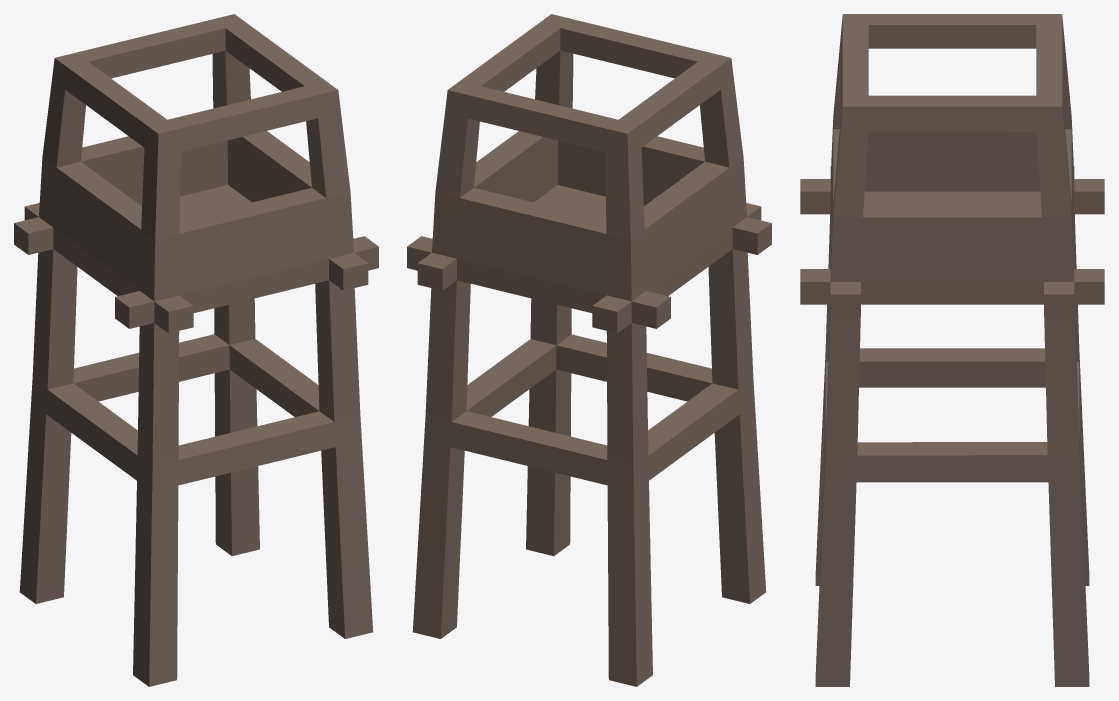
File: md_watchtower.glb
3 renders of one model, left to right at view 1: azimuth 30°, elevation 25°; view 2: azimuth 150°, elevation 25°; view 3: azimuth 270°, elevation 25°, orthographic. The views are drawn at different scales.
Visible parts, largest first — view 1: md_watchtower2; view 2: md_watchtower2; view 3: md_watchtower2.
Part boxes in pixels (x1,y1,x2,y2): md_watchtower2: (14, 14, 378, 686); md_watchtower2: (407, 14, 771, 686); md_watchtower2: (800, 14, 1104, 686).
Bounding box in the file's own units: 3.4 × 7 × 3.4.
